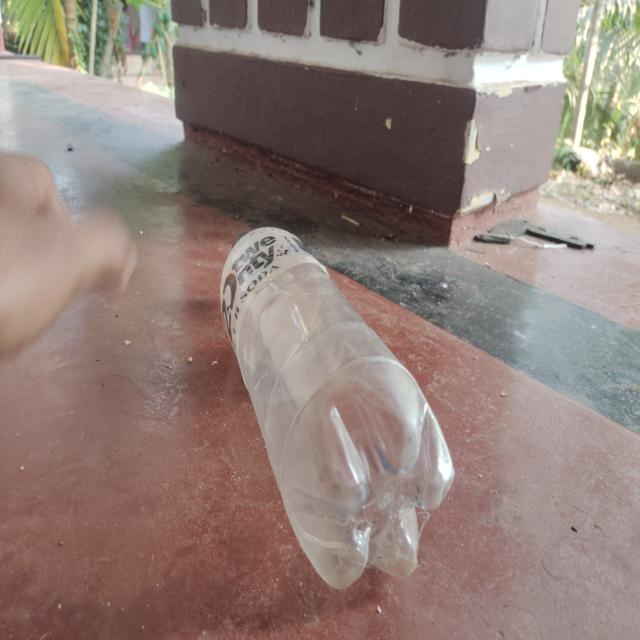plastic: (218, 223, 459, 596)
